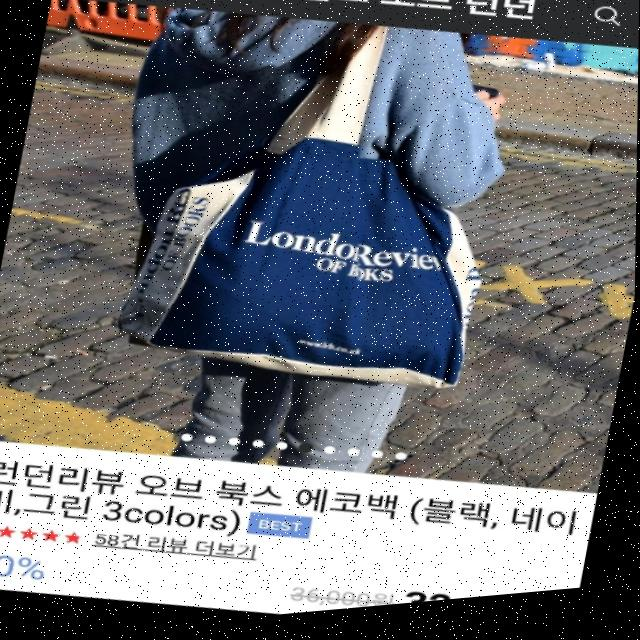ecobag: (91, 0, 564, 444)
